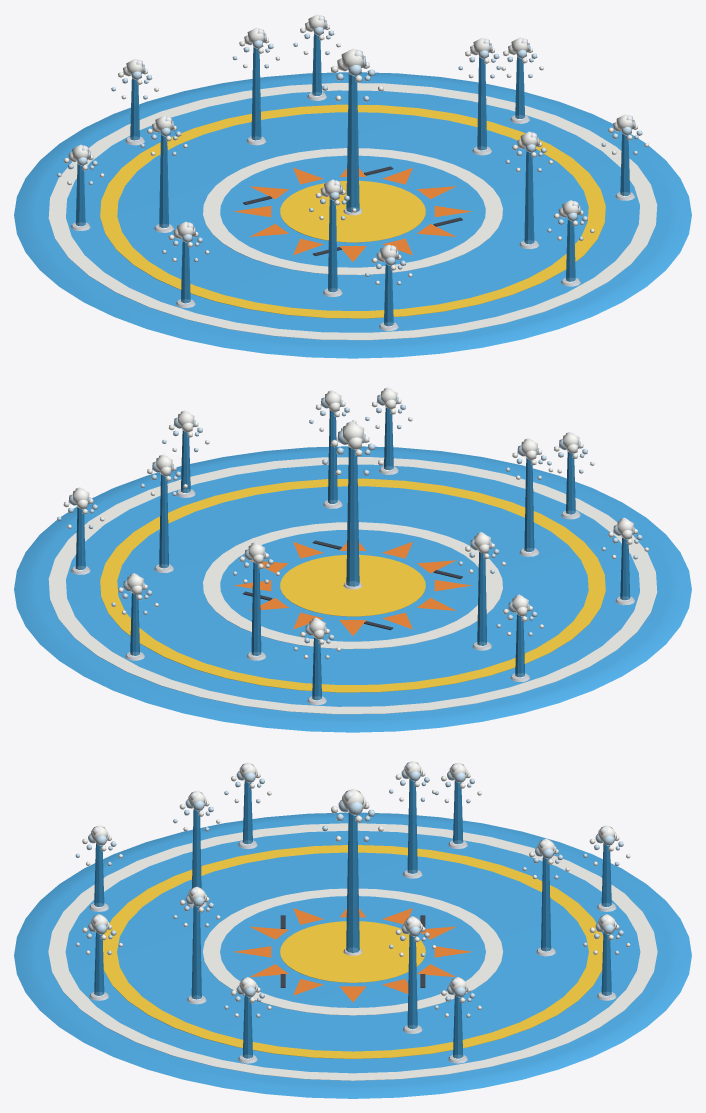
File: chafariz_jatos_chao.glb
3 renders of one model, top to bottom at view 1: azimuth 30°, elevation 25°; view 2: azimuth 150°, elevation 25°; view 3: azimuth 270°, elevation 25°, orthographic.
Visible parts, largest first — view 1: chafariz_jatos_chao, jatos_borda, jatos_anel, jato_centro; view 2: chafariz_jatos_chao, jatos_borda, jatos_anel, jato_centro; view 3: chafariz_jatos_chao, jatos_borda, jatos_anel, jato_centro.
Part boxes in pixels (x1,y1,x2,y2): chafariz_jatos_chao: [14, 72, 691, 358]; jatos_borda: [57, 14, 648, 326]; jatos_anel: [140, 27, 552, 292]; jato_centro: [322, 48, 383, 212]; chafariz_jatos_chao: [14, 446, 691, 732]; jatos_borda: [57, 387, 648, 700]; jatos_anel: [140, 390, 552, 655]; jato_centro: [322, 421, 383, 586]; chafariz_jatos_chao: [14, 812, 691, 1098]; jatos_borda: [75, 762, 630, 1058]; jatos_anel: [173, 761, 569, 1029]; jato_centro: [322, 789, 383, 952].
Bounding box in the file's own units: 7.9 × 2.15 × 7.9.
Materials: 3 (1 with a texture image).
